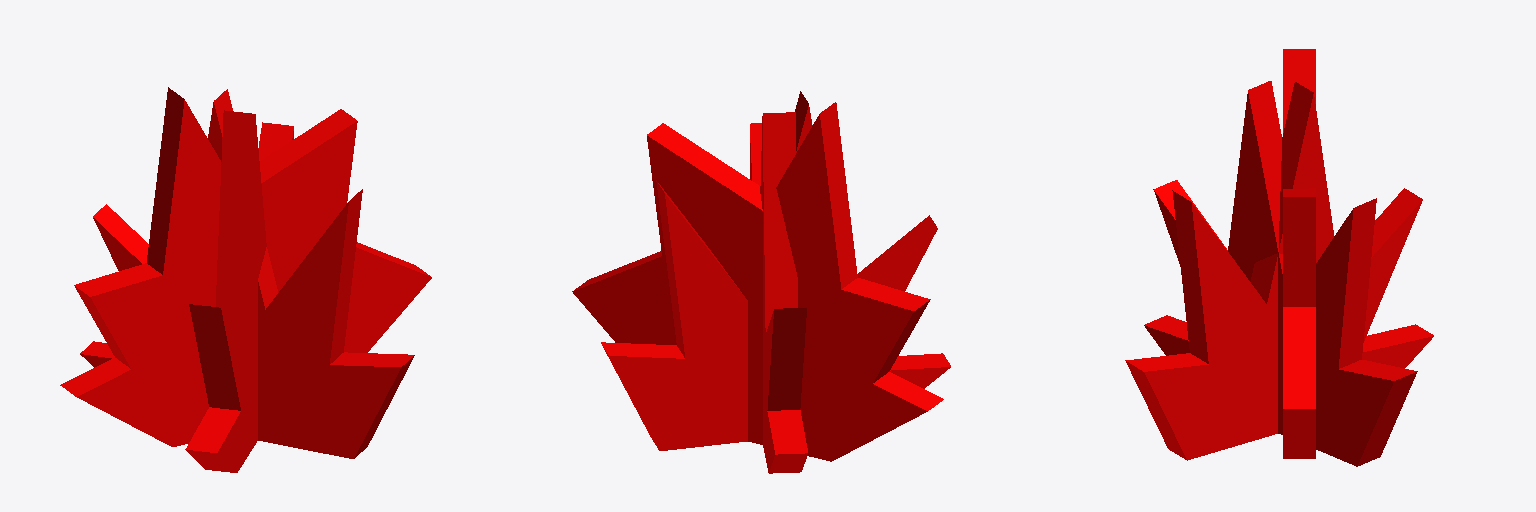
The model's file is tuz.obj.
The picture shows the model from 3 angles: view 1: azimuth 30°, elevation 25°; view 2: azimuth 150°, elevation 25°; view 3: azimuth 270°, elevation 25°; orthographic projection.
Parts seen in each view (by area): view 1: tuz; view 2: tuz; view 3: tuz.
Part boxes in pixels (left/top/right/bottom): tuz: left=60, top=87, right=431, bottom=472; tuz: left=572, top=91, right=950, bottom=473; tuz: left=1125, top=49, right=1433, bottom=466.
Bounding box in the file's own units: 63.58 × 58.97 × 47.89.